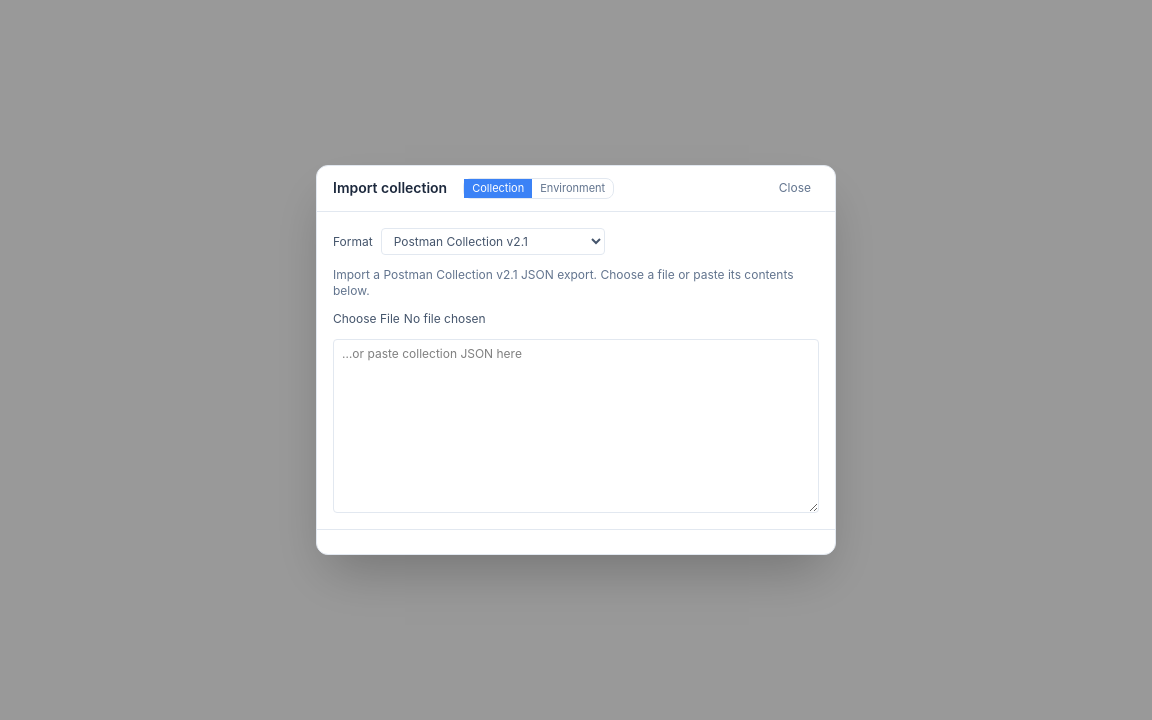
ImportDialog › shows an error message when preview parsing fails
The image size is (1152, 720).
In the text box with placeholder "…or paste collection JSON here": (576, 426) [333,339,819,513], type "not json"
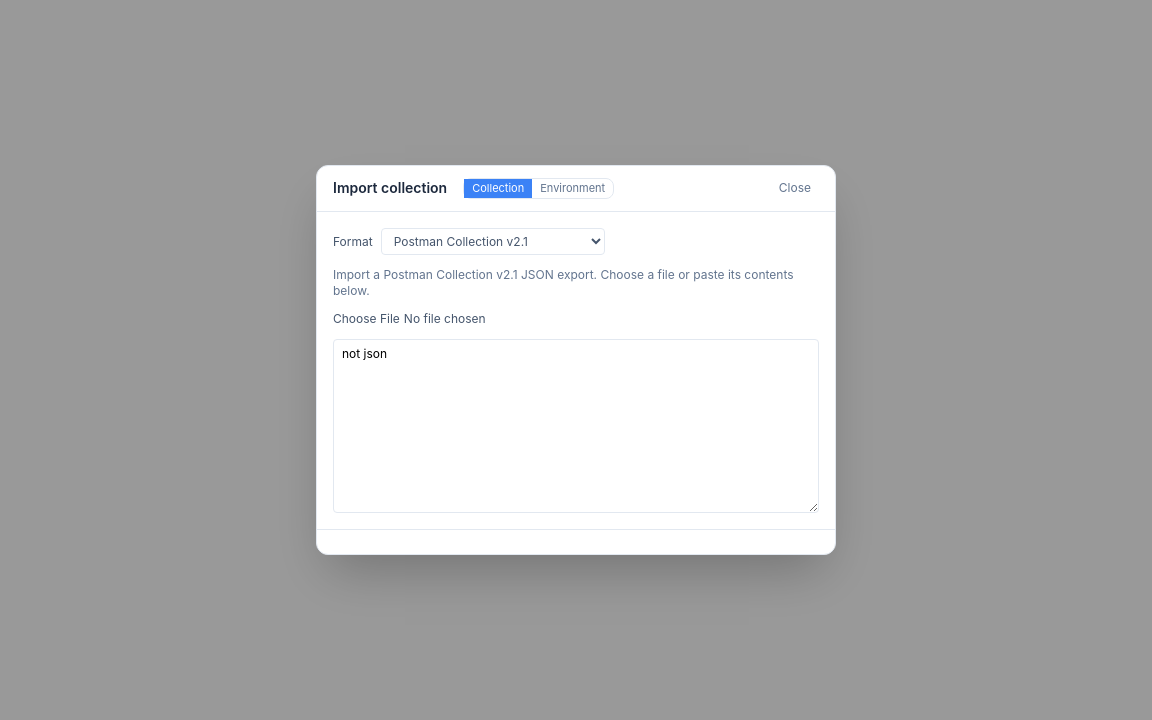
Leave the text box with placeholder "…or paste collection JSON here", box [333,339,819,513]
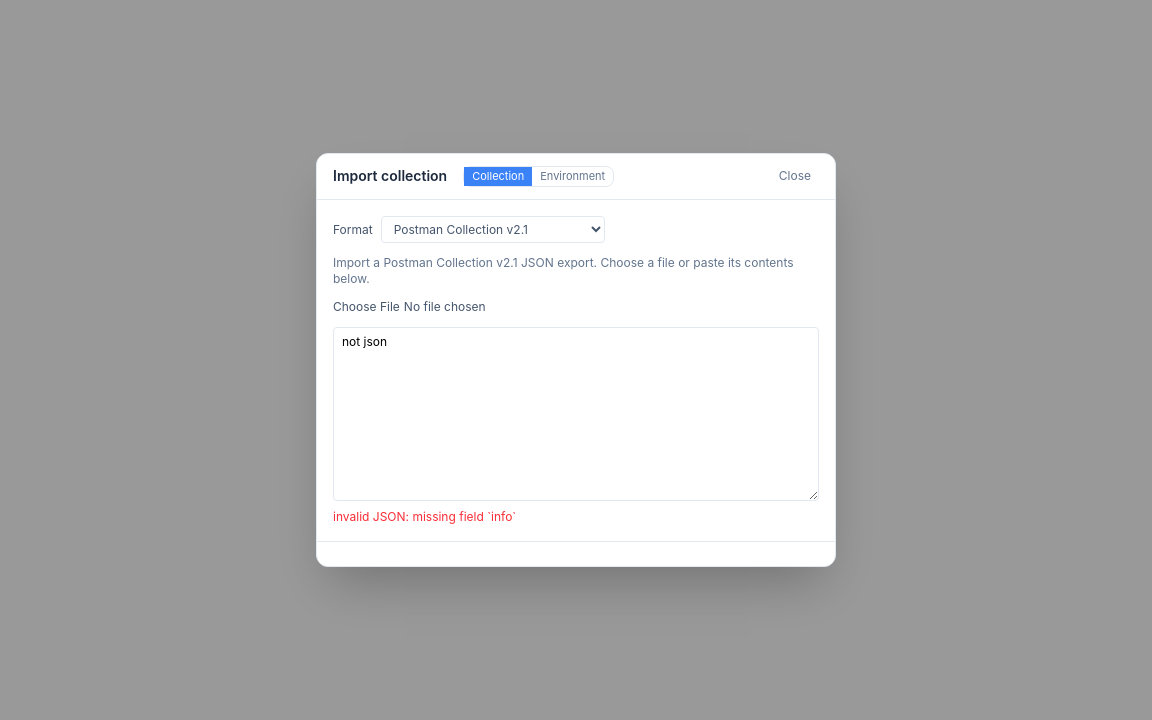
Result: the text "invalid JSON: missing field `info`" is shown at [333,509,516,524]
